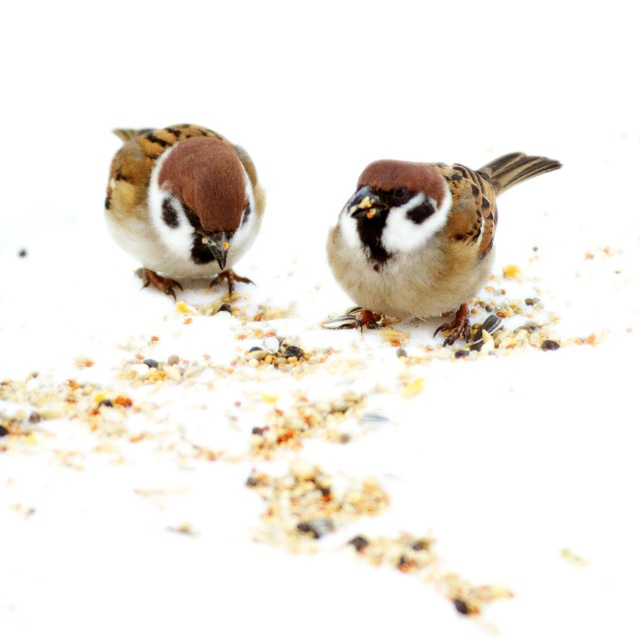Sparrow: (324, 148, 560, 350), (99, 118, 268, 299)
